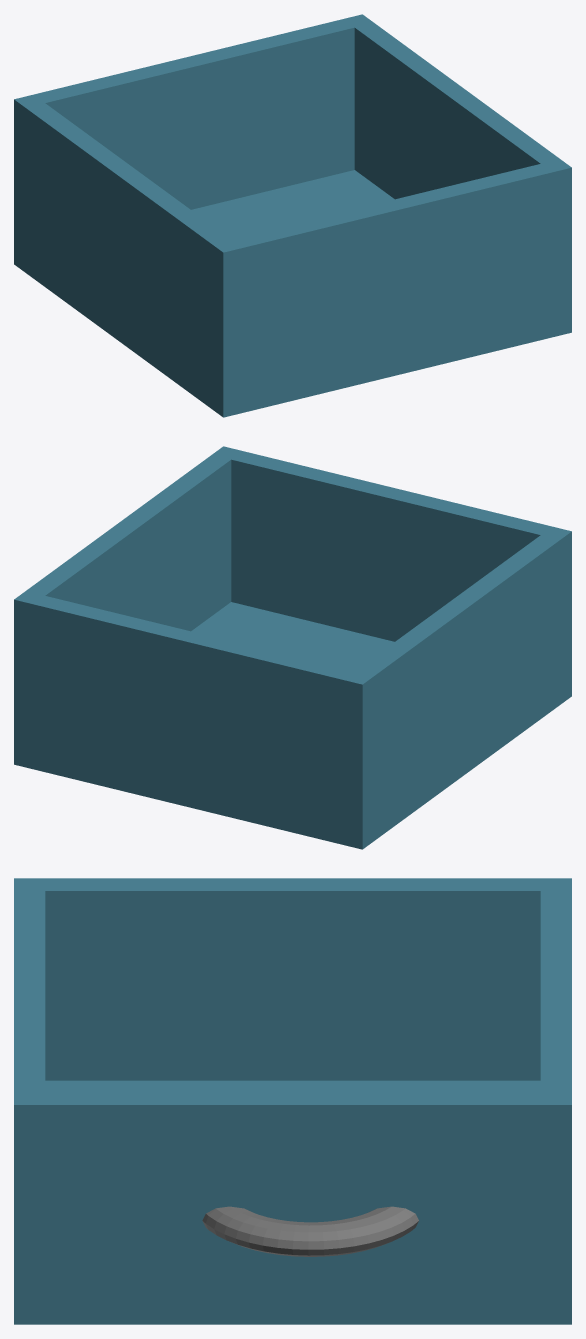
The model's file is BottomDrawerFinal.fbx.
3 views of the same model, one above another, from view 1: azimuth 30°, elevation 25°; view 2: azimuth 150°, elevation 25°; view 3: azimuth 270°, elevation 25° (orthographic). The views are drawn at different scales.
Parts seen in each view (by area): view 1: DrawerBottom; view 2: DrawerBottom; view 3: DrawerBottom.
Boxes of the visible parts, box(x1,y1,x2,y2) form: DrawerBottom: box(14, 14, 571, 417); DrawerBottom: box(14, 446, 571, 849); DrawerBottom: box(14, 878, 571, 1324).
Bounding box in the file's own units: 87.26 × 34.98 × 80.48.
